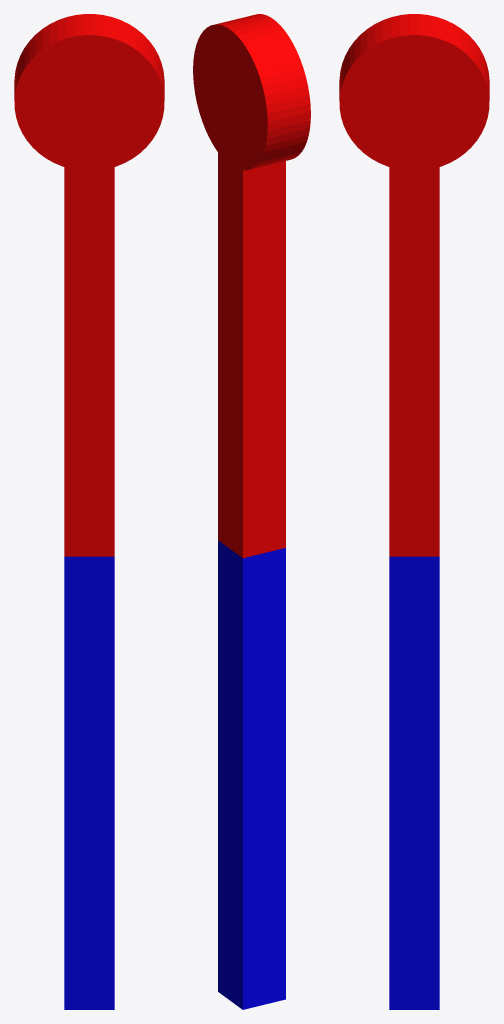
Rendered from testRobot.dae.
3 renders of one model, left to right at view 1: azimuth 90°, elevation 25°; view 2: azimuth 210°, elevation 25°; view 3: azimuth 270°, elevation 25°, orthographic.
Visible parts, largest first — view 1: Arm1, Arm0, Base; view 2: Arm1, Arm0, Base; view 3: Arm1, Arm0, Base.
Part boxes in pixels (box(x1,y1,x2,y2)): Arm1: box(64, 556, 114, 1009); Arm0: box(64, 103, 114, 556); Base: box(14, 14, 164, 170); Arm1: box(218, 540, 285, 1009); Arm0: box(218, 89, 285, 558); Base: box(193, 14, 310, 170); Arm1: box(389, 556, 439, 1009); Arm0: box(389, 103, 439, 556); Base: box(339, 14, 489, 170).
Size of the model in its own units: 0.02 by 0.06 by 0.4299.
